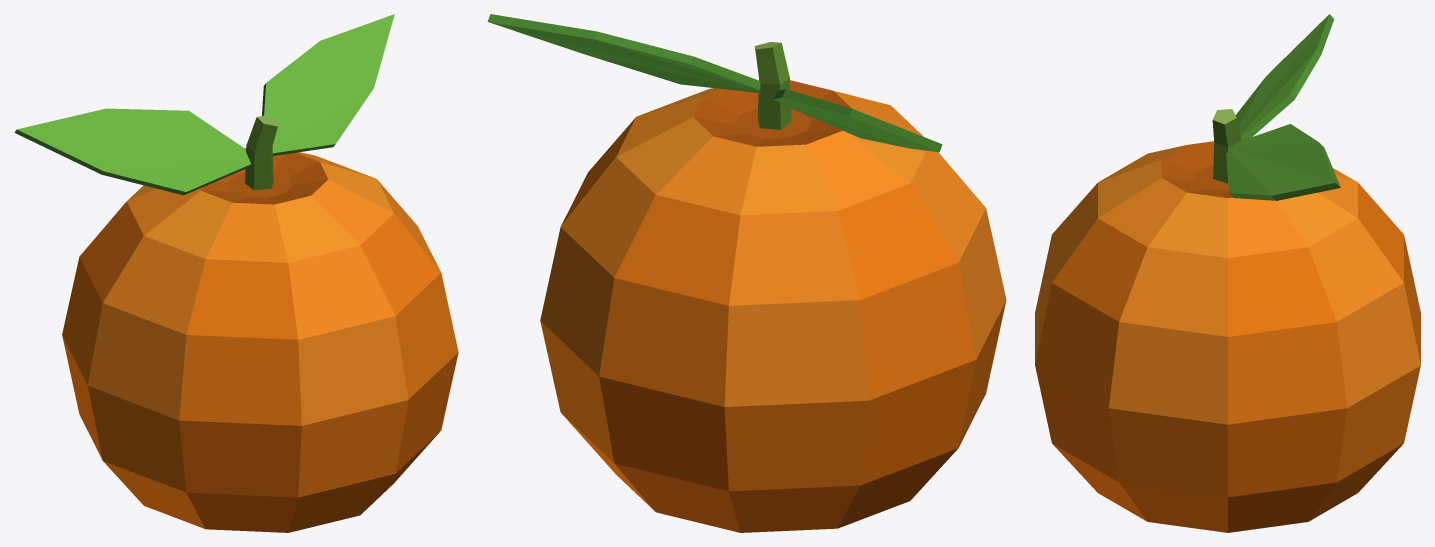
Rendered from FMS_Fruit_Orange.fbx.
The picture shows the model from 3 angles, left to right: view 1: azimuth 30°, elevation 25°; view 2: azimuth 150°, elevation 25°; view 3: azimuth 270°, elevation 25°; orthographic projection. The views are drawn at different scales.
Parts seen in each view (by area): view 1: item_produce_orange; view 2: item_produce_orange; view 3: item_produce_orange.
Boxes of the visible parts, x1,y1,x2,y2 form: item_produce_orange: (14,14,458,532); item_produce_orange: (487,14,1006,532); item_produce_orange: (1035,14,1420,532).
Size of the model in its own units: 0.0835 by 0.0848 by 0.0719.
Materials: 1 (1 with a texture image).
